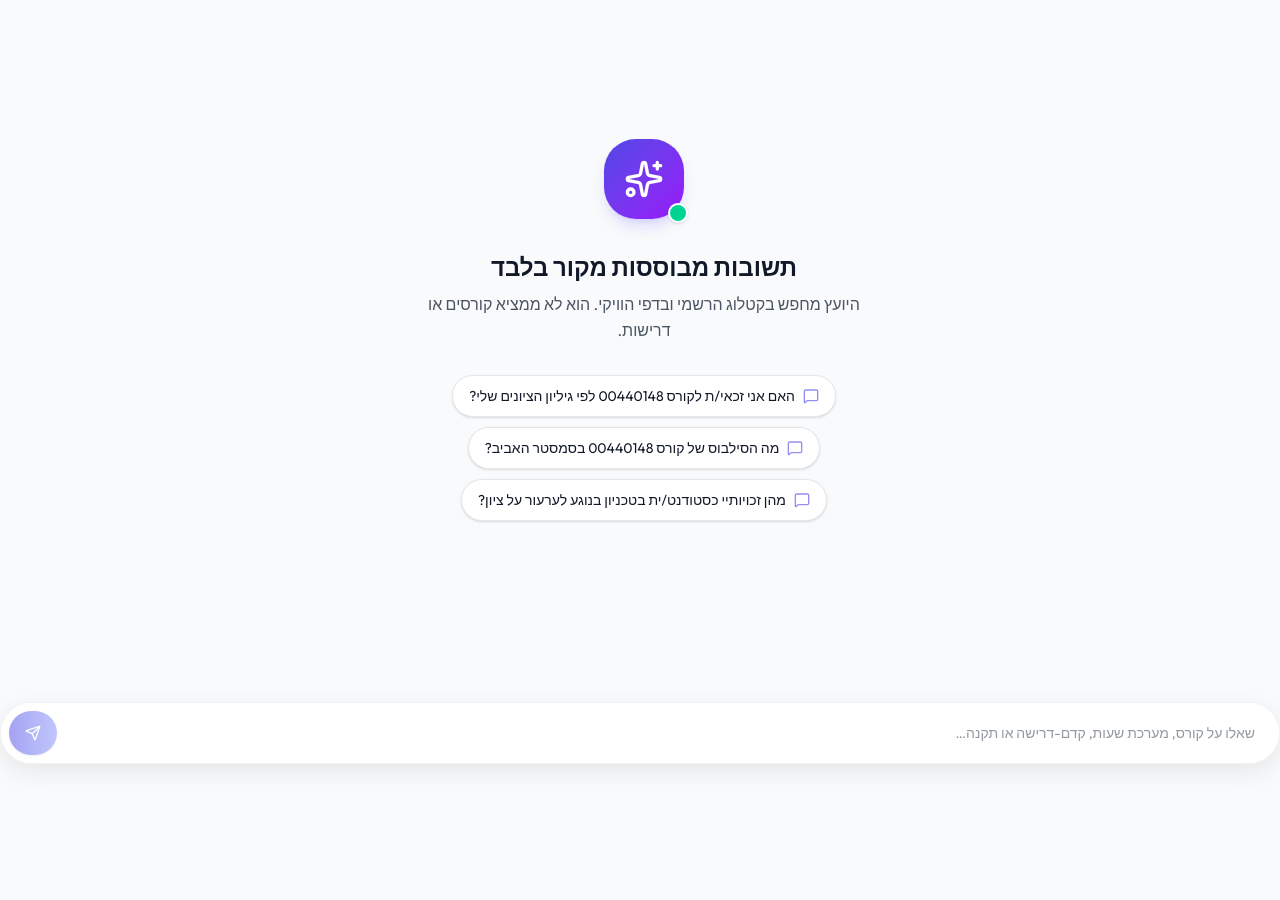
Test: AdvisorPage › renders answer and metadata when each event arrives in its own read
Type "How many credits do I have left?" into the field with test id "advisor-input" at coordinates (668, 733), box [65,711,1271,755]
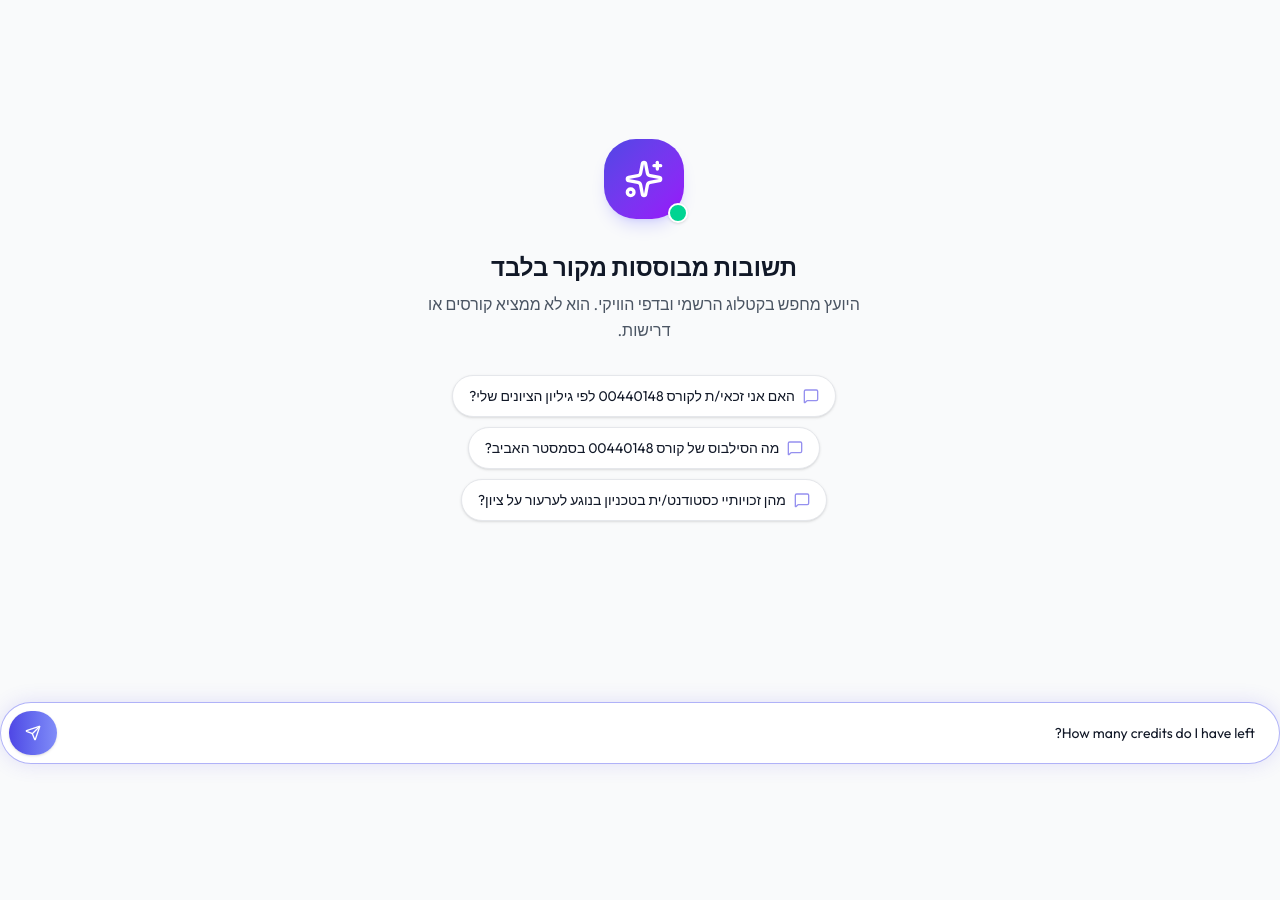
Click the button with test id "advisor-submit" at coordinates (33, 733), box [9,711,57,755]
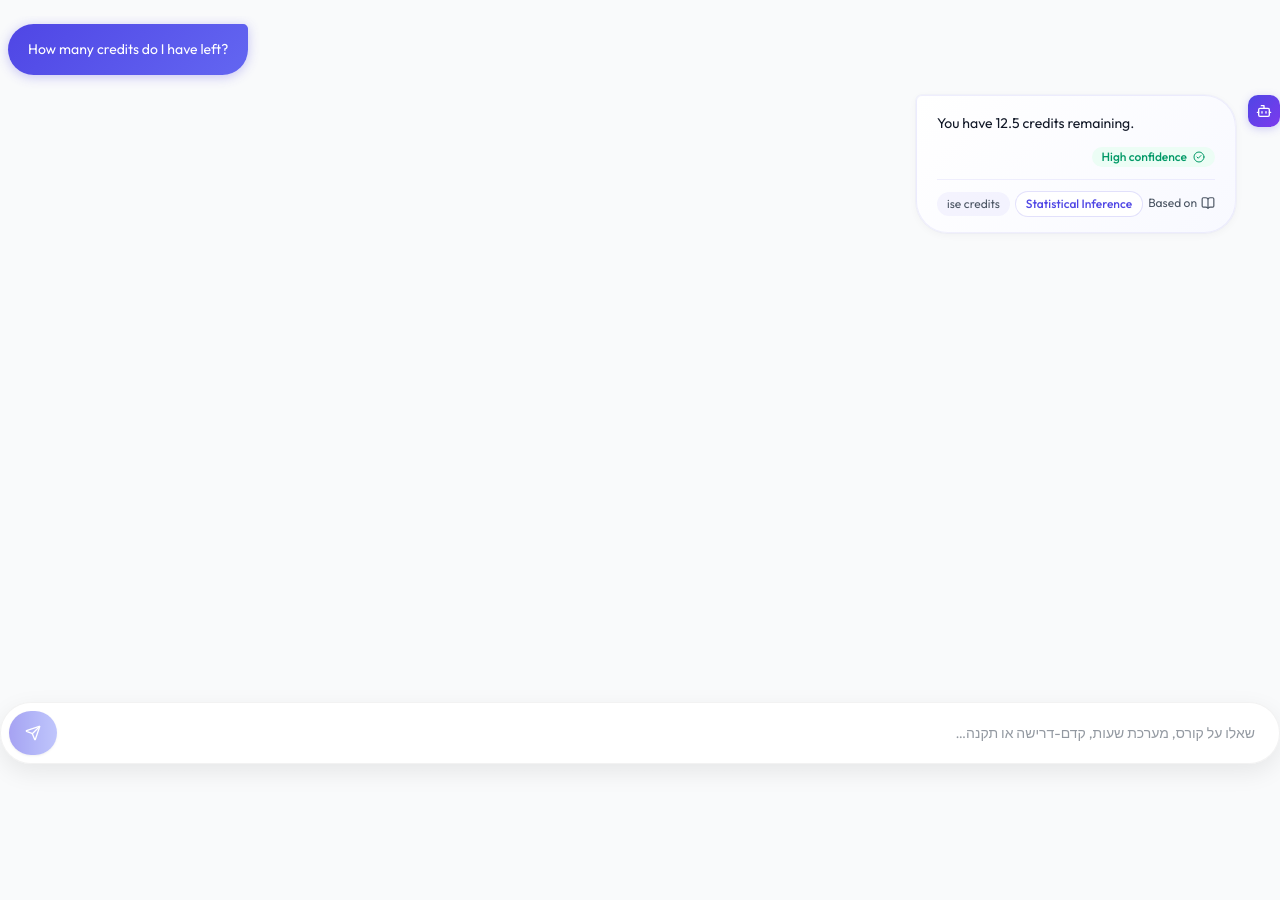
Check: the text "You have 12.5 credits remaining." is shown, box [937,114,1134,132]
Check: the link "Statistical Inference" is shown, box [1016,192,1142,216]
Check: the text "ise credits" is shown, box [937,192,1010,216]
